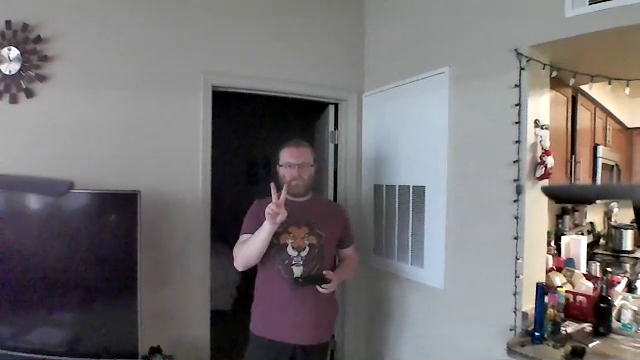peace: (266, 178, 295, 233)
